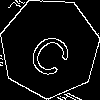C: (24, 23, 81, 82)
